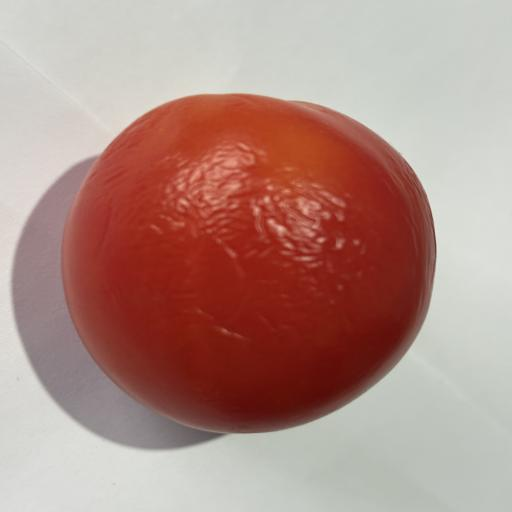spoiled: (62, 95, 435, 432)
